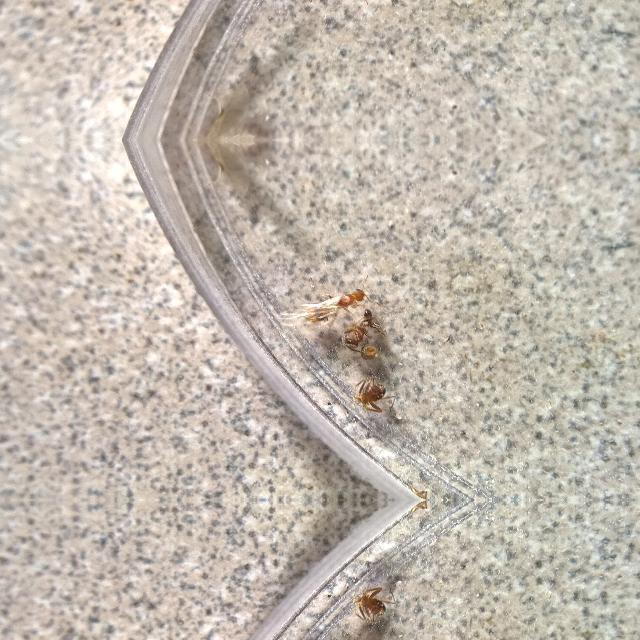Temnothorax: (298, 276, 364, 328)
